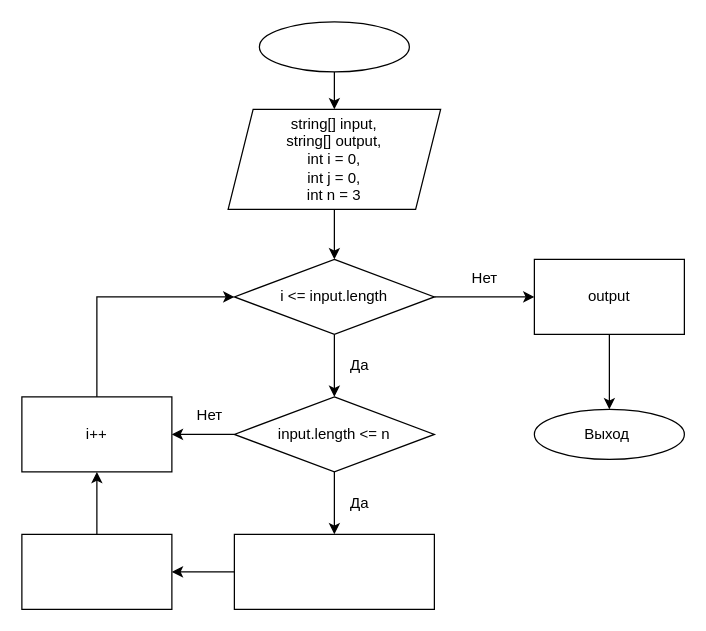
Image size: 706x631. Some labels were removed from this diagram. The centre of each missing label's shape, as x and y in pixels:
"j++" belongs at (96,571).
"output[ j ] = Input[ i ]" belongs at (333,571).
"Начало" belongs at (333,46).
